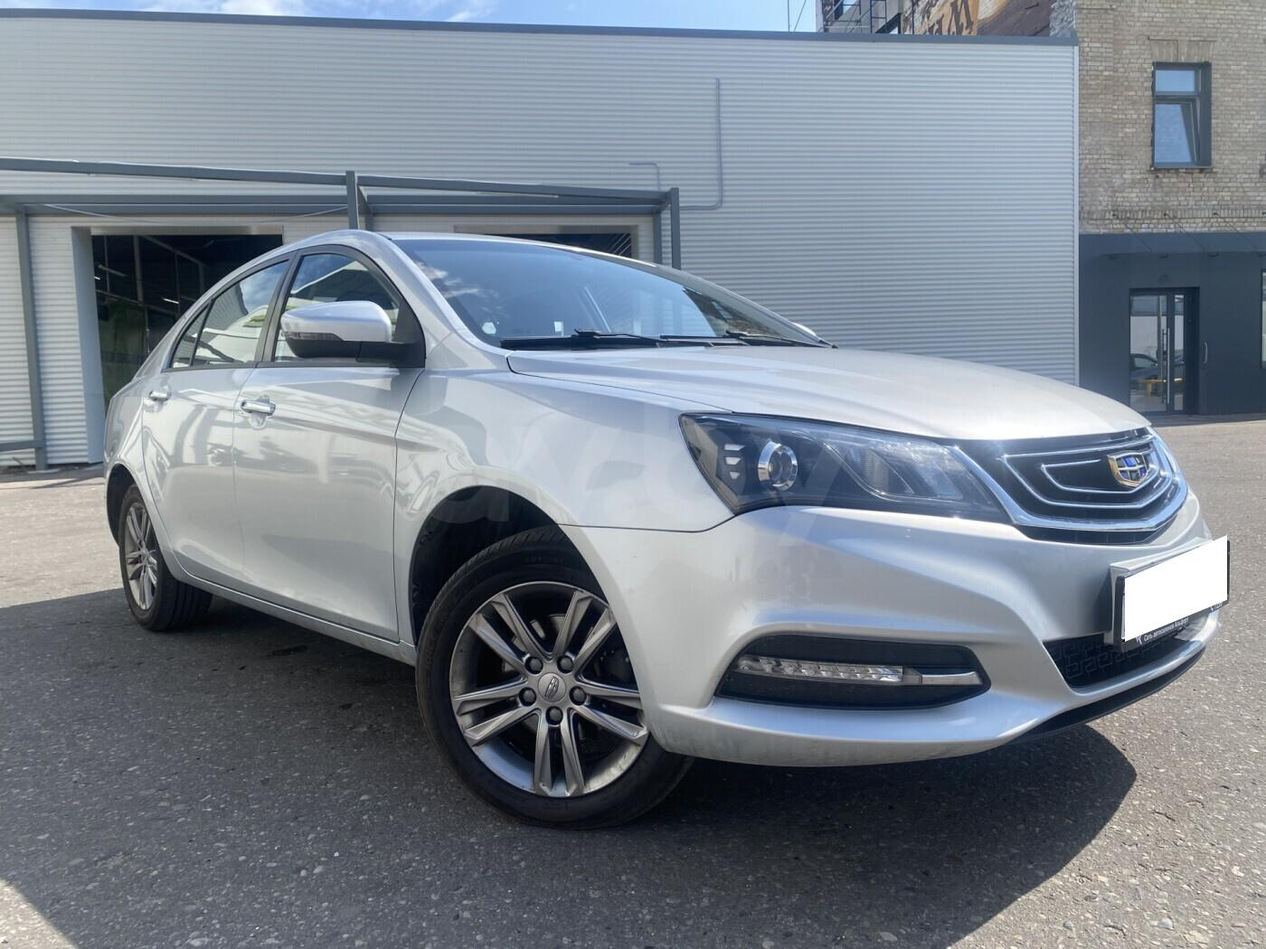Emgrand_2019-2021: (103, 230, 1229, 828)
